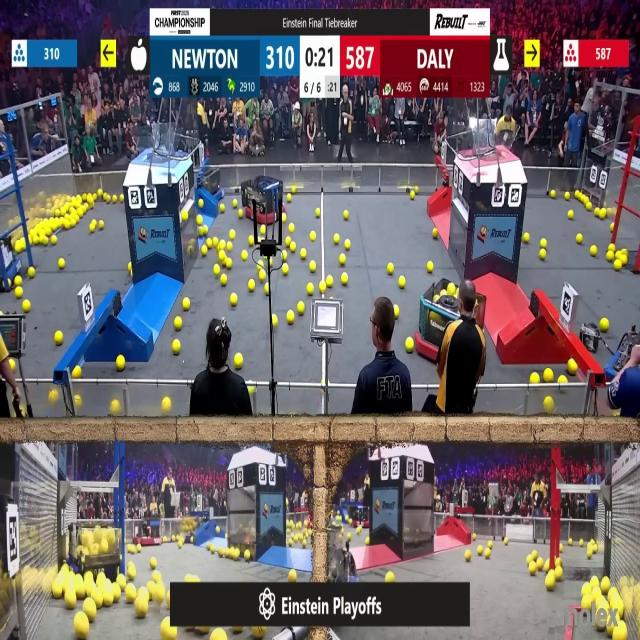ball_airborne: (497, 117, 505, 130)
ball_ground: (136, 598, 148, 618), (86, 604, 98, 623), (126, 587, 138, 604), (66, 592, 77, 610), (152, 587, 163, 603), (544, 574, 554, 590), (543, 397, 553, 412), (163, 397, 172, 413), (110, 402, 120, 416), (601, 580, 610, 594), (54, 585, 63, 599), (568, 359, 576, 374), (116, 355, 124, 370), (600, 318, 609, 331), (543, 370, 552, 383), (581, 595, 590, 608), (236, 354, 244, 368), (288, 568, 296, 582), (113, 589, 121, 603), (56, 333, 64, 346), (296, 303, 304, 316), (174, 317, 182, 330), (129, 566, 137, 579), (151, 570, 160, 581), (407, 339, 414, 353), (173, 341, 180, 355), (23, 301, 31, 313), (286, 312, 294, 324), (530, 374, 539, 384), (73, 365, 81, 376), (386, 571, 394, 582), (28, 268, 36, 279), (117, 574, 125, 585), (231, 293, 238, 305), (182, 296, 189, 308), (248, 280, 255, 292), (342, 274, 349, 286), (556, 568, 563, 580), (529, 563, 536, 575), (74, 395, 81, 407), (606, 251, 614, 261), (188, 574, 198, 582), (393, 306, 399, 319), (308, 283, 315, 294), (539, 249, 546, 260), (14, 287, 21, 298), (244, 551, 251, 562), (218, 250, 225, 261), (220, 275, 227, 286), (224, 257, 231, 268), (319, 282, 326, 293), (233, 550, 240, 561), (388, 264, 394, 276), (272, 315, 278, 327), (326, 276, 332, 288), (591, 576, 599, 585), (235, 626, 243, 635), (282, 266, 289, 276), (258, 272, 265, 282), (213, 266, 220, 276), (14, 276, 21, 286), (539, 239, 546, 249), (219, 240, 226, 250), (41, 236, 48, 246), (427, 263, 433, 274), (398, 277, 404, 288), (299, 248, 305, 259), (576, 234, 582, 245), (616, 261, 622, 272), (150, 558, 156, 569), (310, 262, 316, 273), (9, 359, 15, 370), (543, 560, 549, 571), (289, 243, 296, 252), (71, 217, 78, 226), (259, 224, 265, 234), (591, 246, 597, 256), (341, 254, 347, 264), (524, 234, 530, 244), (464, 552, 470, 562), (226, 242, 232, 252), (60, 258, 66, 268), (242, 250, 248, 260), (345, 240, 351, 250), (195, 215, 201, 225), (485, 549, 491, 559), (181, 212, 187, 222), (335, 235, 341, 245), (228, 229, 234, 239), (595, 208, 601, 218), (534, 552, 540, 562), (574, 190, 580, 200), (536, 560, 542, 570), (559, 376, 566, 384), (284, 238, 291, 246), (91, 223, 97, 232), (50, 236, 56, 245), (310, 233, 316, 242), (551, 189, 557, 198), (130, 543, 136, 552), (475, 545, 481, 554), (622, 255, 628, 264), (78, 208, 84, 217), (104, 192, 110, 201), (266, 284, 271, 294), (568, 210, 573, 220), (432, 230, 437, 240), (344, 210, 349, 220), (283, 250, 288, 260), (99, 220, 105, 228), (238, 210, 244, 218), (199, 200, 205, 208), (564, 190, 570, 198), (608, 244, 614, 252), (587, 203, 593, 211), (210, 544, 216, 552), (556, 558, 562, 566), (98, 188, 104, 196), (65, 220, 71, 228), (527, 554, 533, 562), (269, 256, 275, 264), (249, 237, 254, 246), (203, 247, 208, 256), (316, 208, 321, 217), (203, 224, 208, 233), (616, 250, 621, 259), (248, 387, 254, 394), (208, 239, 212, 249), (609, 223, 614, 231), (137, 543, 142, 551), (364, 537, 369, 545), (287, 193, 292, 201), (213, 238, 218, 246), (178, 540, 183, 548), (122, 196, 127, 204), (588, 552, 593, 560), (129, 264, 133, 273), (172, 535, 178, 541), (112, 194, 117, 201), (411, 191, 416, 198), (488, 540, 493, 547), (474, 536, 479, 543), (282, 214, 286, 222), (220, 205, 224, 213), (289, 223, 293, 231), (119, 194, 123, 202), (560, 543, 564, 551), (348, 532, 352, 540), (503, 538, 508, 544), (164, 536, 169, 542), (234, 201, 238, 208), (471, 533, 475, 540), (256, 265, 260, 272), (216, 527, 220, 534), (416, 186, 420, 193), (568, 538, 572, 545), (0, 311, 4, 317)
goal: (466, 121, 521, 160), (129, 130, 189, 160)
robot_blue: (64, 523, 118, 579), (196, 167, 226, 204), (176, 517, 209, 545)
robot_red: (417, 285, 462, 362), (243, 173, 285, 223), (336, 482, 371, 528), (132, 515, 162, 545)
